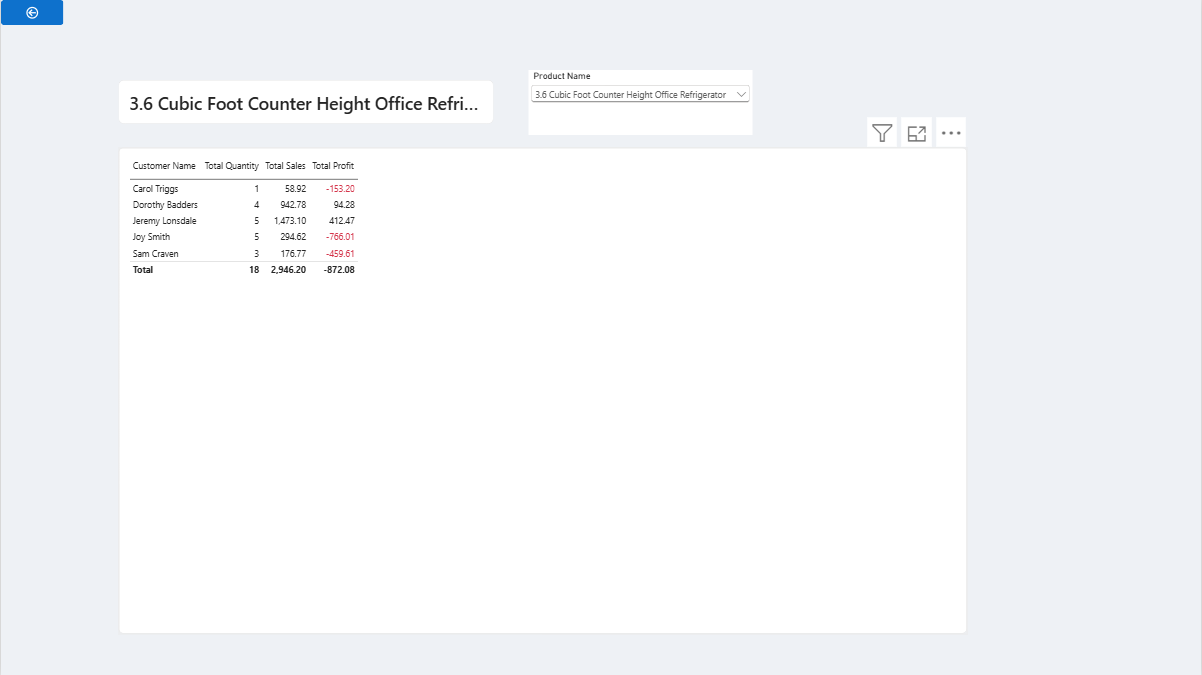

Layout of this report page (visuals, bound fields, positions):
{"tool":"powerbi","page":{"name":"Customer Detail","canvas":[1920,1080],"ordinal":4},"visuals":[{"type":"actionButton","box":[0,0,100,40],"z":0},{"type":"cardVisual","fields":{"Data":["Min(Orders.Product Name)"]},"box":[188,128,600,70],"z":1000},{"type":"tableEx","fields":{"Values":["Orders.Customer Name","Orders.Total Quantity","Orders.Total Sales","Orders.Total Profit"]},"box":[188.6,235.7,1357.5,777.5],"z":2000},{"type":"slicer","fields":{"Values":["Orders.Product Name"]},"box":[844,112,358.6,104.3],"z":2001}]}

Visuals, with their boxes on the page's 1920x1080 design canvas (x1, y1, x2, y2). These are canvas units, not pixel positions in the 1202x675 screenshot, which may show the page scaled, cropped or inside an application window:
actionButton: bbox(0, 0, 100, 40)
cardVisual - Min(Orders.Product Name): bbox(188, 128, 788, 198)
tableEx - Orders.Customer Name x Orders.Total Quantity: bbox(189, 236, 1546, 1013)
slicer - Orders.Product Name: bbox(844, 112, 1203, 216)
